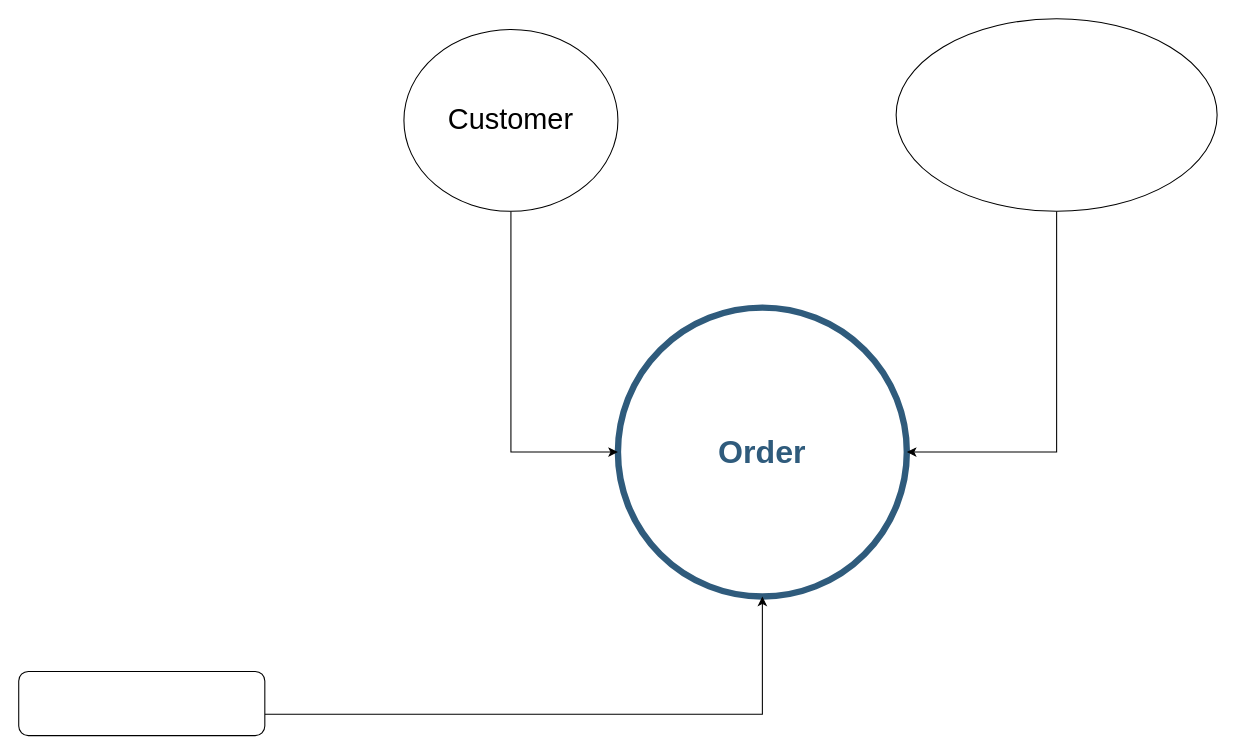
Some shapes in this 1236 by 754 pixel diagram are drawn without their labels. Here are the shapes that lost their labels. From the top down, the centre of each, then its label:
At (x=1056, y=114): "Product".
At (x=141, y=703): "Date range".
